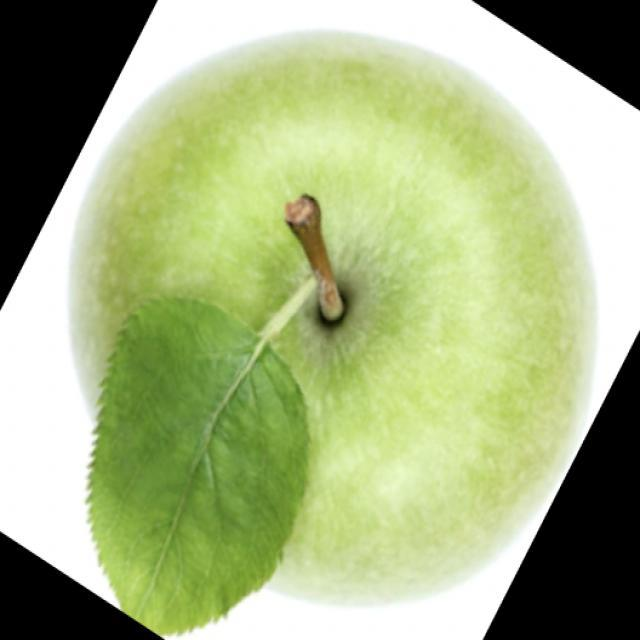Fresh Apple: (52, 20, 578, 572)
